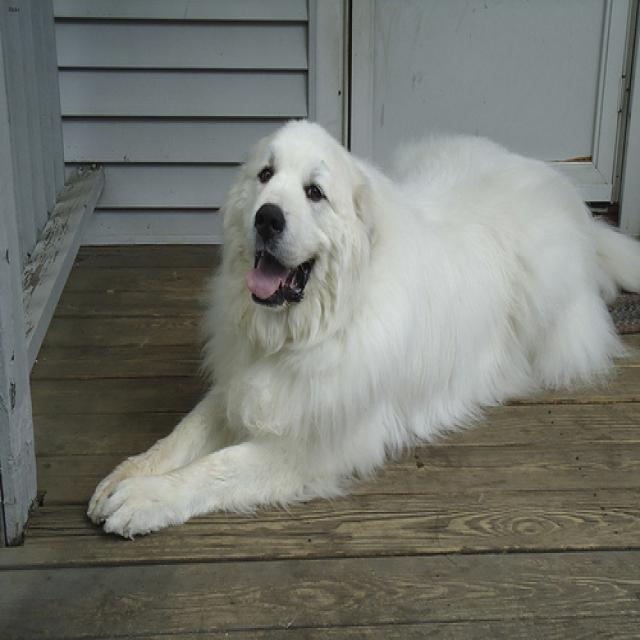dog-great_pyrenees: (77, 106, 637, 550)
